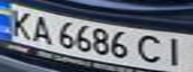6: (51, 19, 78, 51), (109, 28, 133, 61), (72, 24, 93, 53)
8: (90, 26, 112, 56)
A: (27, 14, 57, 45)
C: (136, 33, 169, 65)
I: (160, 35, 193, 68)
K: (3, 7, 36, 39)
